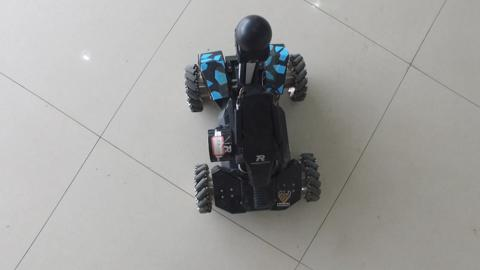chariot: (181, 20, 326, 222)
